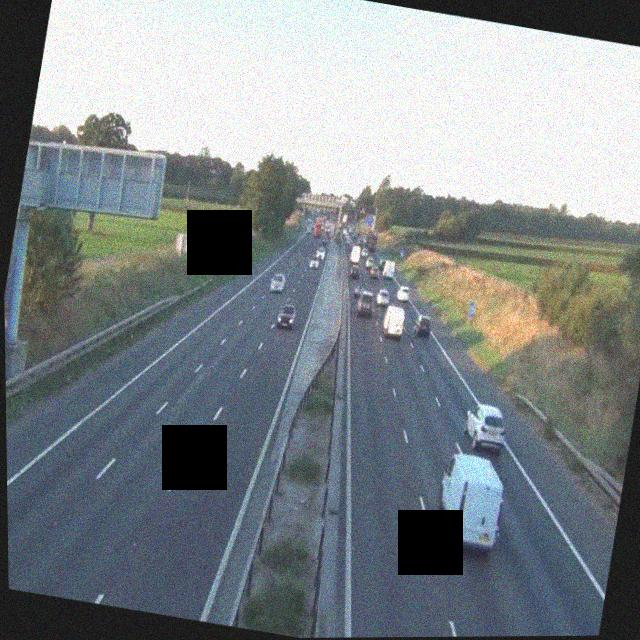car: (460, 401, 510, 454), (380, 303, 405, 338), (275, 300, 298, 329), (412, 311, 434, 336), (354, 290, 375, 316), (373, 288, 393, 309), (395, 284, 411, 305), (271, 272, 286, 294), (351, 280, 366, 299), (348, 263, 362, 281), (367, 263, 381, 280), (383, 264, 396, 281), (310, 253, 323, 269)
truck: (362, 230, 379, 254)
